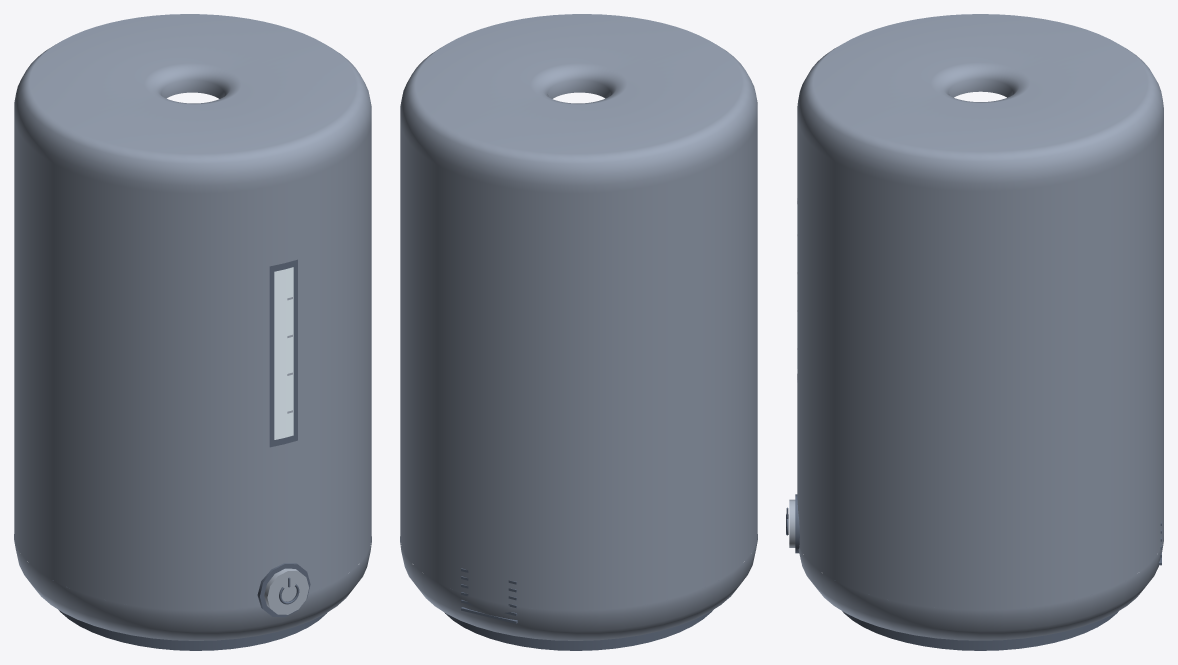
Rendered from humidifier-lite.glb.
3 renders of one model, left to right at view 1: azimuth 30°, elevation 25°; view 2: azimuth 150°, elevation 25°; view 3: azimuth 270°, elevation 25°, orthographic.
Parts seen in each view (by area): view 1: humidifier; view 2: humidifier; view 3: humidifier.
Part boxes in pixels (box(x1,y1,x2,y2)): humidifier: box(14, 14, 371, 650); humidifier: box(400, 14, 757, 650); humidifier: box(786, 14, 1163, 650).
Size of the model in its own units: 0.206 by 0.323 by 0.218.
